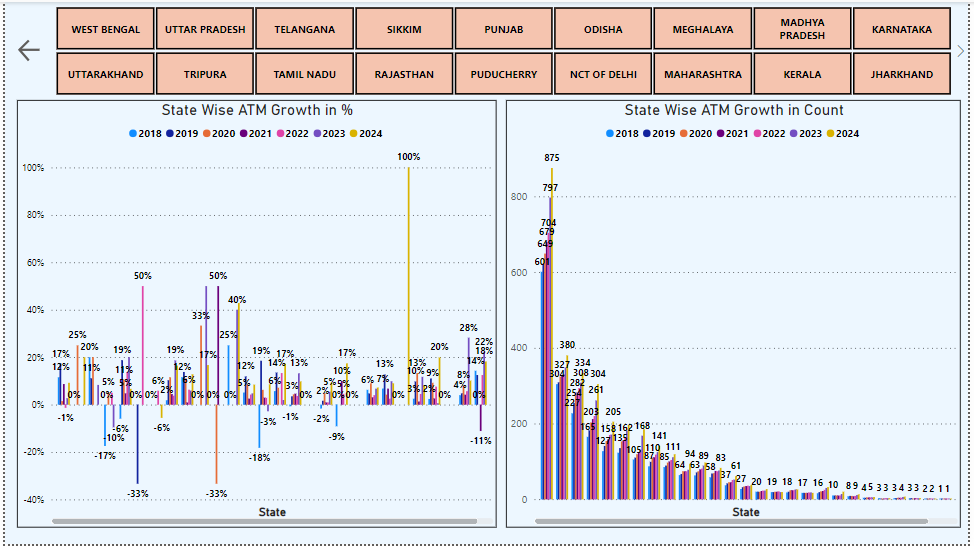

Layout of this report page (visuals, bound fields, positions):
{"tool":"powerbi","page":{"name":"Page 2","canvas":[1280,720],"ordinal":1},"visuals":[{"type":"lineClusteredColumnComboChart","title":"State Wise ATM Growth in %","fields":{"Category":["Kotak ATM 18-24.Staes/Uts","Kotak ATM 18-24.State"],"Y":["Sum(Kotak ATM 18-24.2018)","Sum(Kotak ATM 18-24.2019)","Sum(Kotak ATM 18-24.2020)","Sum(Kotak ATM 18-24.2021)","Sum(Kotak ATM 18-24.2022)","Sum(Kotak ATM 18-24.2023)","Sum(Kotak ATM 18-24.2024)"]},"box":[16.1,130.2,636.6,567.8],"z":0},{"type":"slicer","fields":{"Values":["Kotak ATM 18-24.Staes/Uts"]},"box":[42.4,0,1238,130.2],"z":1000},{"type":"lineClusteredColumnComboChart","title":"State Wise ATM Growth in Count","fields":{"Category":["Kotak ATM 18-24.Staes/Uts"],"Y":["Max(Kotak ATM 18-24.01-03-2018)","Max(Kotak ATM 18-24.01-03-2019)","Max(Kotak ATM 18-24.01-03-2020)","Max(Kotak ATM 18-24.01-03-2021)","Max(Kotak ATM 18-24.01-03-2022)","Max(Kotak ATM 18-24.01-03-2023)","Max(Kotak ATM 18-24.01-03-2024)"]},"box":[665.9,130.2,604.4,567.8],"z":2000},{"type":"actionButton","box":[12.9,45.7,58.6,38.6],"z":3000}]}

Visuals, with their boxes in screenshot pixels (x1, y1, x2, y2), scaled from the page's 1280x720 canvas onto the 974x546 screenshot:
"State Wise ATM Growth in %" lineClusteredColumnComboChart: Rect(12, 99, 497, 529)
slicer - Kotak ATM 18-24.Staes/Uts: Rect(32, 0, 973, 99)
"State Wise ATM Growth in Count" lineClusteredColumnComboChart: Rect(507, 99, 967, 529)
actionButton: Rect(10, 35, 54, 64)
